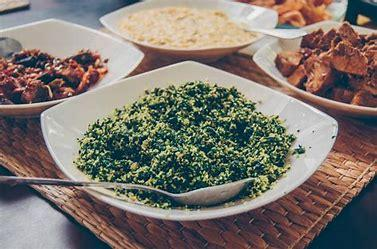Gotukola Mallum: (76, 93, 310, 198)
